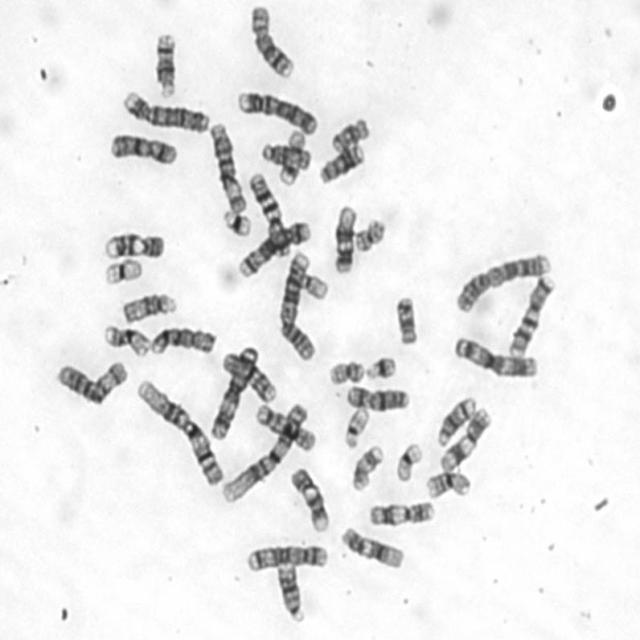A1: (136, 377, 225, 488), (220, 401, 310, 504)
A2: (456, 252, 551, 313), (280, 250, 319, 358)
A3: (210, 346, 260, 440), (454, 334, 539, 379)
B4: (122, 88, 210, 134), (238, 90, 319, 136)
B5: (238, 220, 310, 279), (247, 545, 331, 574)
C10: (254, 403, 316, 452), (222, 351, 278, 403)
C11: (440, 406, 492, 472), (369, 502, 437, 526)
C12: (340, 525, 404, 570), (334, 206, 357, 274)
C6: (207, 122, 247, 214), (57, 360, 129, 406)
C7: (508, 275, 557, 357), (248, 172, 290, 256)
C8: (249, 5, 295, 78), (150, 326, 217, 360)
C9: (291, 465, 331, 534), (104, 230, 165, 259)
D13: (278, 556, 307, 624), (319, 143, 365, 184)
D14: (437, 396, 478, 448), (153, 32, 178, 100)
D15: (122, 289, 179, 324), (260, 141, 311, 171)
E16: (105, 323, 151, 358), (426, 470, 474, 499)
E17: (276, 130, 306, 185), (351, 443, 385, 491)
E18: (331, 116, 370, 152), (394, 295, 420, 346)
F19: (394, 442, 422, 482), (104, 258, 144, 285)
F20: (355, 215, 386, 254), (328, 361, 364, 384)
G21: (222, 209, 252, 237), (366, 354, 396, 380)
G22: (341, 408, 370, 448), (300, 272, 327, 304)
X: (109, 133, 181, 169), (345, 385, 411, 411)
